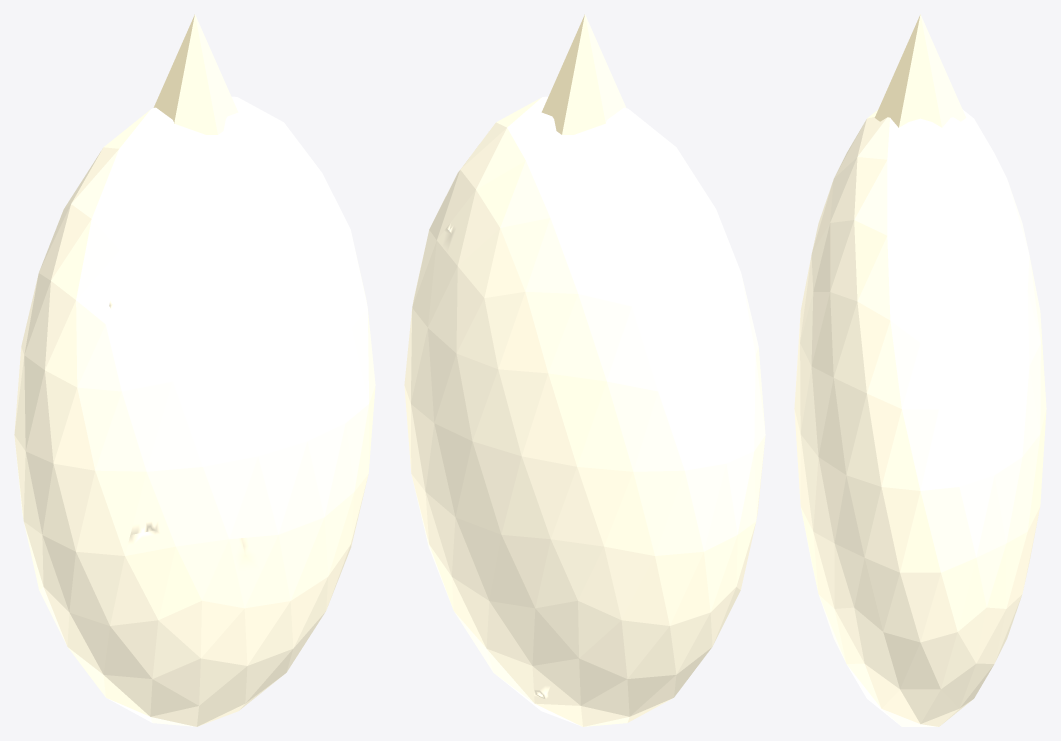
Rendered from halloween_seed.glb.
3 views of the same model, side by side, from view 1: azimuth 30°, elevation 25°; view 2: azimuth 150°, elevation 25°; view 3: azimuth 270°, elevation 25° (orthographic).
Visible parts, largest first — view 1: PumpkinSeed; view 2: PumpkinSeed; view 3: PumpkinSeed.
Boxes of the visible parts, x1,y1,x2,y2 form: PumpkinSeed: (14,14,375,726); PumpkinSeed: (404,14,765,726); PumpkinSeed: (794,14,1046,726).
Size of the model in its own units: 0.68 by 1.36 by 0.44.
